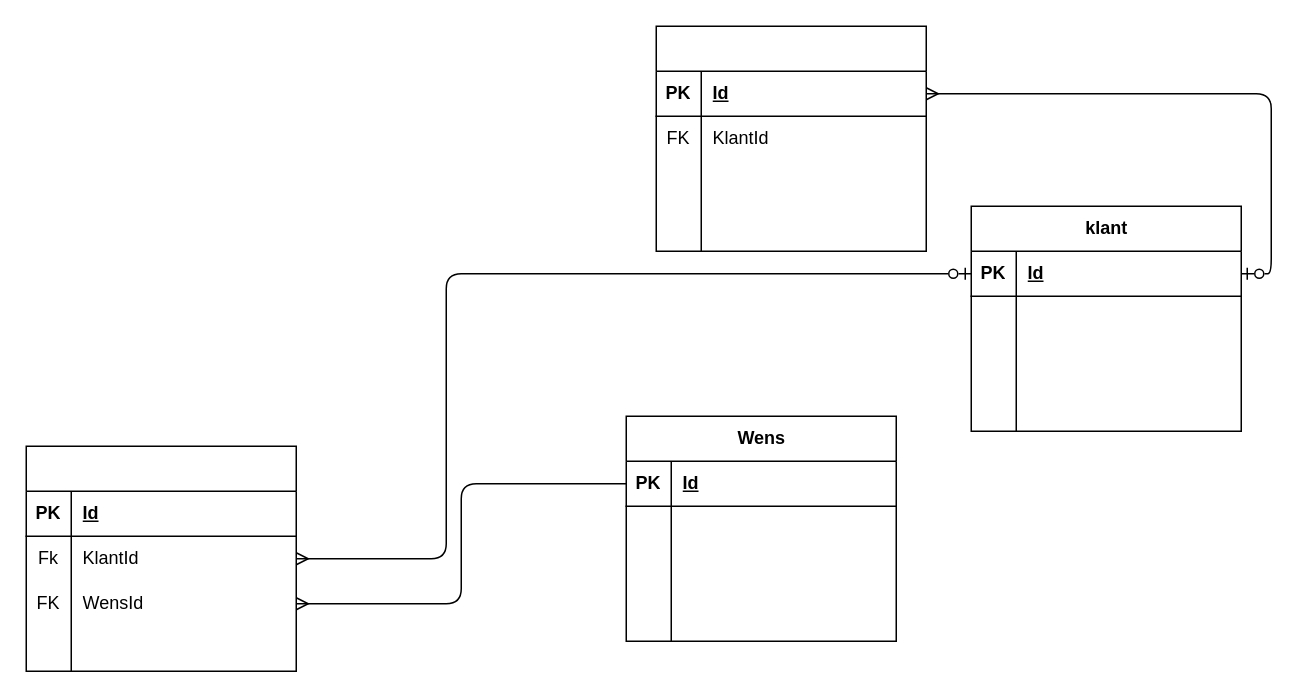
Image size: 1311x698. Some labels were removed from this diagram. Here are the shapes that lost their labels. From the top down, the box of each, then its label:
(655, 25, 926, 251): VoedselPakket
(25, 445, 296, 671): KlantWens
